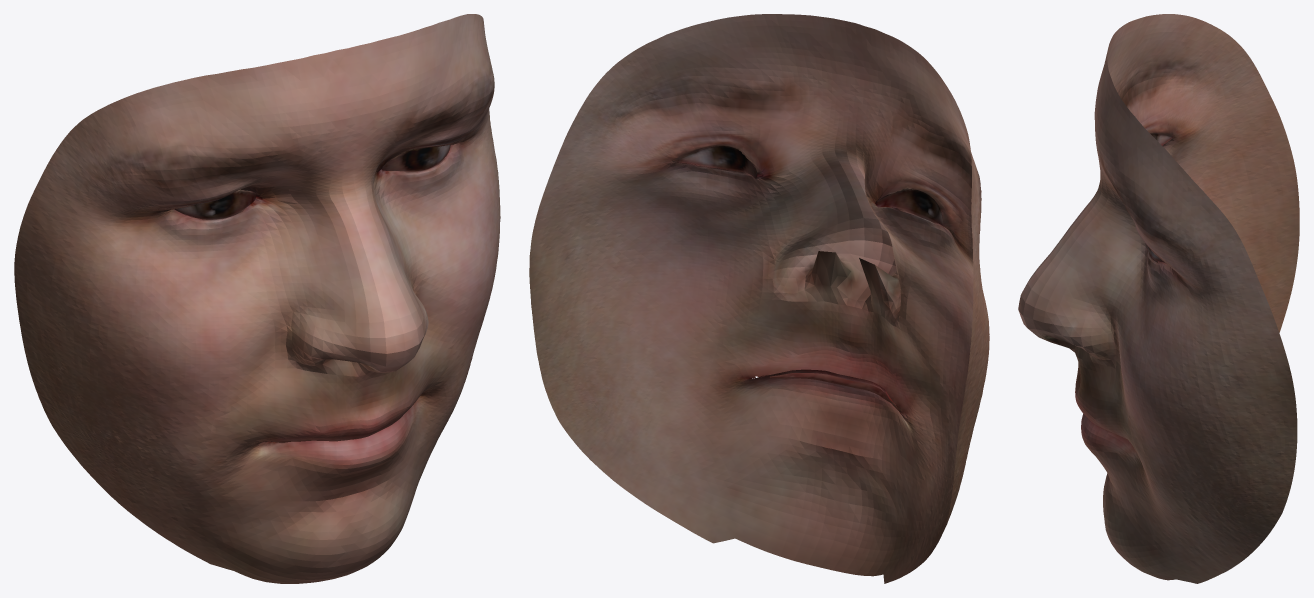
The model's file is sample.obj.
3 renders of one model, left to right at view 1: azimuth 30°, elevation 25°; view 2: azimuth 150°, elevation 25°; view 3: azimuth 270°, elevation 25°, orthographic. The views are drawn at different scales.
Bounding box in the file's own units: 1.29 × 1.48 × 0.7467.
